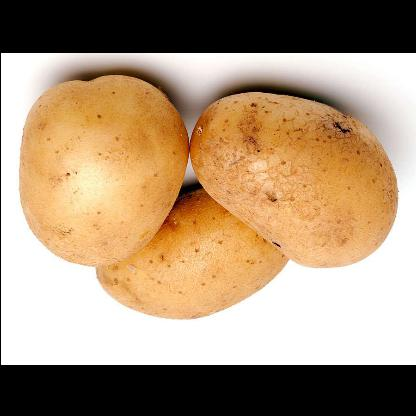potato: (187, 92, 396, 266), (19, 74, 188, 266), (96, 185, 288, 320)
